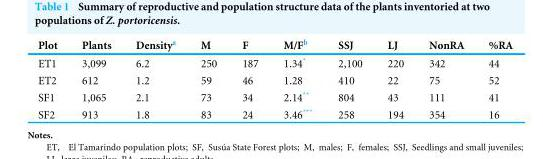table: (37, 36, 512, 120)
table column: (122, 36, 187, 120), (415, 36, 475, 120), (68, 36, 122, 120), (270, 36, 324, 120), (324, 36, 374, 120), (228, 36, 270, 120), (187, 36, 228, 120), (374, 36, 415, 120), (475, 36, 512, 120), (37, 36, 68, 120)
table column header: (37, 36, 512, 52)
table row: (37, 52, 512, 70), (37, 70, 512, 87), (37, 87, 512, 104), (37, 36, 512, 52), (37, 104, 512, 120)
